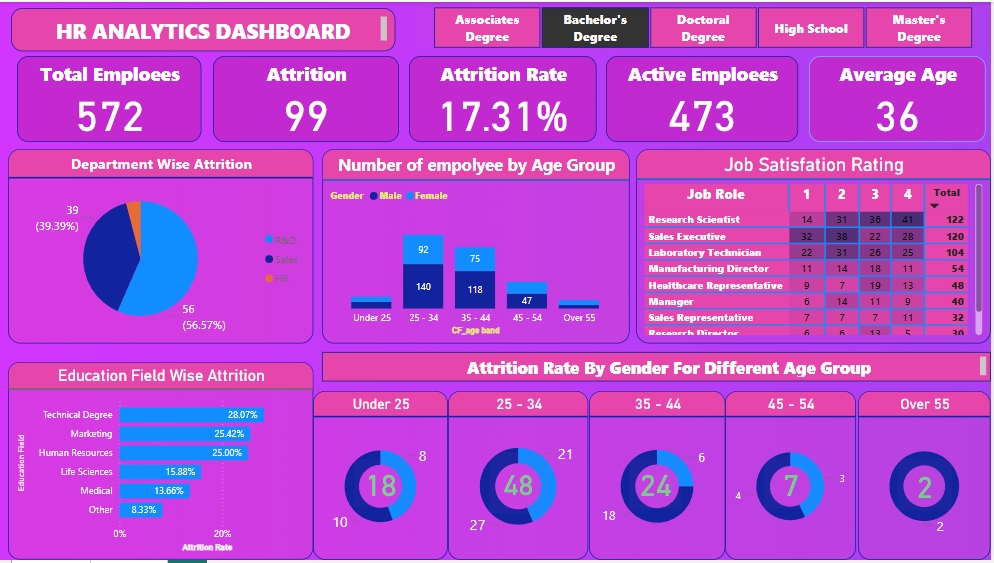

What the dashboard file says about the page in this screenshot:
{"tool":"powerbi","page":{"name":"Page 1","canvas":[1280,720],"ordinal":0},"visuals":[{"type":"card","title":"Total Emploees","fields":{"Values":["Sum(Table3.Employee Count)"]},"box":[22.7,69.4,238.1,110.6],"z":0},{"type":"card","title":"Attrition","fields":{"Values":["Sum(Table3.CF_attrition count)"]},"box":[276.4,69.4,239.5,110.6],"z":1000},{"type":"card","title":"Attrition Rate","fields":{"Values":["Table3.Attrition Rate"]},"box":[528.7,69.4,242.4,110.6],"z":2000},{"type":"card","title":"Active Emploees","fields":{"Values":["Table3.Active Employees"]},"box":[783.8,69.4,248,110.6],"z":3000},{"type":"card","title":"Average Age","fields":{"Values":["Avg(Table3.Age)"]},"box":[1044.6,69.4,228.2,110.6],"z":4000},{"type":"pieChart","title":"Department Wise Attrition","fields":{"Category":["Table3.Department"],"Y":["Sum(Table3.CF_attrition count)"]},"box":[11.3,189.9,394,250.9],"z":5000},{"type":"columnChart","title":"Number of empolyee by  Age Group","fields":{"Category":["Table3.CF_age band"],"Y":["Sum(Table3.Employee Count)"],"Series":["Table3.Gender"]},"box":[416.7,189.9,396.9,250.9],"z":6000},{"type":"pivotTable","title":"Job Satisfation Rating","fields":{"Rows":["Table3.Job Role"],"Columns":["Table3.Job Satisfaction"],"Values":["Sum(Table3.Employee Count)"]},"box":[822,189.9,457.8,250.9],"z":7000},{"type":"barChart","title":"Education Field Wise Attrition ","fields":{"Category":["Table3.Education Field"],"Y":["Table3.Attrition Rate"]},"box":[11.3,464.9,394,255.1],"z":8000},{"type":"donutChart","title":"Under 25","fields":{"Category":["Table3.Gender"],"Y":["Sum(Table3.CF_attrition count)"],"Series":["Table3.CF_age band"]},"box":[405.4,501.7,174.3,218.3],"z":9000},{"type":"textbox","box":[416.7,452.1,863.1,38.3],"z":10000},{"type":"donutChart","title":"25 - 34","fields":{"Category":["Table3.Gender"],"Y":["Sum(Table3.CF_attrition count)"],"Series":["Table3.CF_age band"]},"box":[579.7,501.7,181.4,218.3],"z":11000},{"type":"donutChart","title":"35 - 44","fields":{"Category":["Table3.Gender"],"Y":["Sum(Table3.CF_attrition count)"],"Series":["Table3.CF_age band"]},"box":[761.1,501.7,175.7,218.3],"z":12000},{"type":"donutChart","title":"45 - 54","fields":{"Category":["Table3.Gender"],"Y":["Sum(Table3.CF_attrition count)"],"Series":["Table3.CF_age band"]},"box":[936.9,501.7,168.7,218.3],"z":13000},{"type":"donutChart","title":"Over 55","fields":{"Category":["Table3.Gender"],"Y":["Sum(Table3.CF_attrition count)"],"Series":["Table3.CF_age band"]},"box":[1108.3,501.7,171.5,218.3],"z":14000},{"type":"card","fields":{"Values":["Sum(Table3.CF_attrition count)"]},"box":[457.8,589.6,69.4,62.4],"z":15000},{"type":"card","fields":{"Values":["Sum(Table3.CF_attrition count)"]},"box":[632.1,581.1,76.5,79.4],"z":16000},{"type":"card","fields":{"Values":["Sum(Table3.CF_attrition count)"]},"box":[813.5,586.8,69.4,66.6],"z":17000},{"type":"card","fields":{"Values":["Sum(Table3.CF_attrition count)"]},"box":[986.5,586.8,69.4,66.6],"z":18000},{"type":"card","fields":{"Values":["Sum(Table3.CF_attrition count)"]},"box":[1159.4,589.6,69.4,66.6],"z":19000},{"type":"textbox","box":[16,8,496,56],"z":20000},{"type":"slicer","fields":{"Values":["Table3.Education"]},"box":[535.6,0,744.4,60],"z":21000}]}

Visuals, with their boxes in screenshot pixels (x1, y1, x2, y2), scaled from the page's 1280x720 canvas onto the 994x563 screenshot:
"Total Emploees" card: l=18, t=54, r=203, b=141
"Attrition" card: l=215, t=54, r=401, b=141
"Attrition Rate" card: l=411, t=54, r=599, b=141
"Active Emploees" card: l=609, t=54, r=801, b=141
"Average Age" card: l=811, t=54, r=988, b=141
"Department Wise Attrition" pieChart: l=9, t=148, r=315, b=345
"Number of empolyee by  Age Group" columnChart: l=324, t=148, r=632, b=345
"Job Satisfation Rating" pivotTable: l=638, t=148, r=993, b=345
"Education Field Wise Attrition " barChart: l=9, t=364, r=315, b=562
"Under 25" donutChart: l=315, t=392, r=450, b=562
textbox: l=324, t=354, r=993, b=383
"25 - 34" donutChart: l=450, t=392, r=591, b=562
"35 - 44" donutChart: l=591, t=392, r=727, b=562
"45 - 54" donutChart: l=728, t=392, r=859, b=562
"Over 55" donutChart: l=861, t=392, r=993, b=562
card - Sum(Table3.CF_attrition count): l=356, t=461, r=409, b=510
card - Sum(Table3.CF_attrition count): l=491, t=454, r=550, b=516
card - Sum(Table3.CF_attrition count): l=632, t=459, r=686, b=511
card - Sum(Table3.CF_attrition count): l=766, t=459, r=820, b=511
card - Sum(Table3.CF_attrition count): l=900, t=461, r=954, b=513
textbox: l=12, t=6, r=398, b=50
slicer - Table3.Education: l=416, t=0, r=993, b=47
